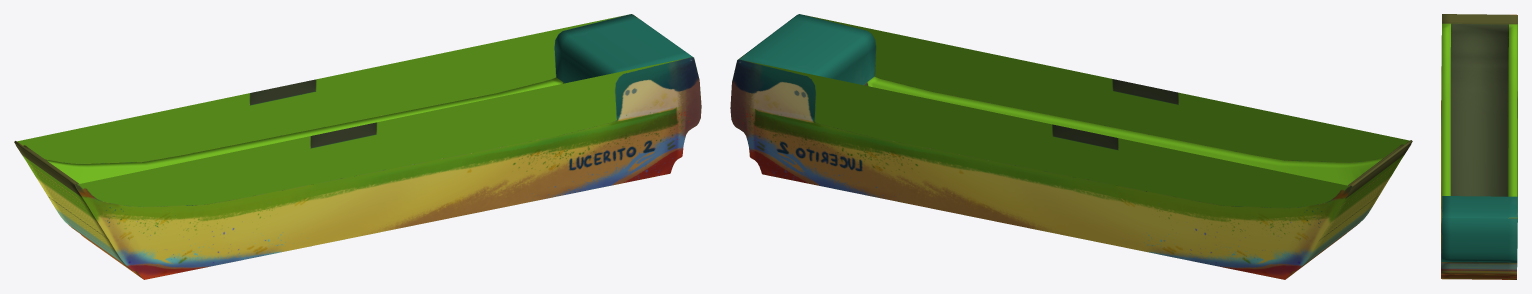
File: Canoa.fbx
3 renders of one model, left to right at view 1: azimuth 30°, elevation 25°; view 2: azimuth 150°, elevation 25°; view 3: azimuth 270°, elevation 25°, orthographic. The views are drawn at different scales.
Parts seen in each view (by area): view 1: Plane; view 2: Plane; view 3: Plane.
Part boxes in pixels (x1=…): Plane: x1=14, y1=14, x2=701, y2=279; Plane: x1=730, y1=14, x2=1412, y2=279; Plane: x1=1441, y1=14, x2=1517, y2=279.
Bounding box in the file's own units: 2148 × 444 × 365.
